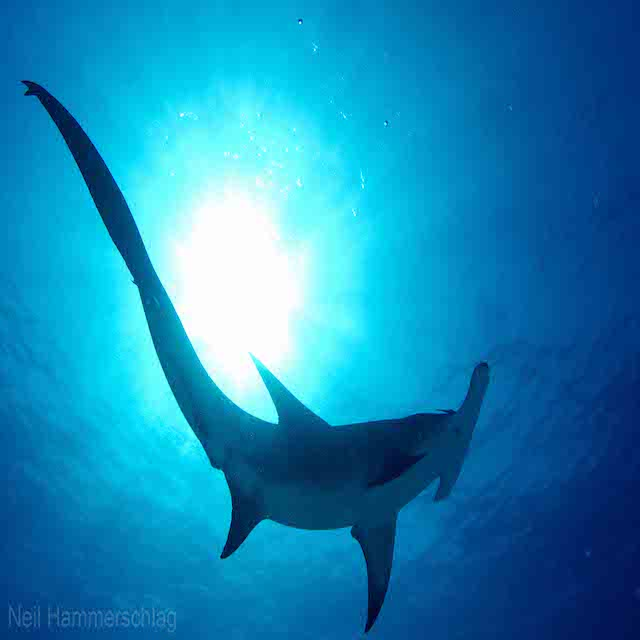hammerhead: (329, 311, 515, 505)
